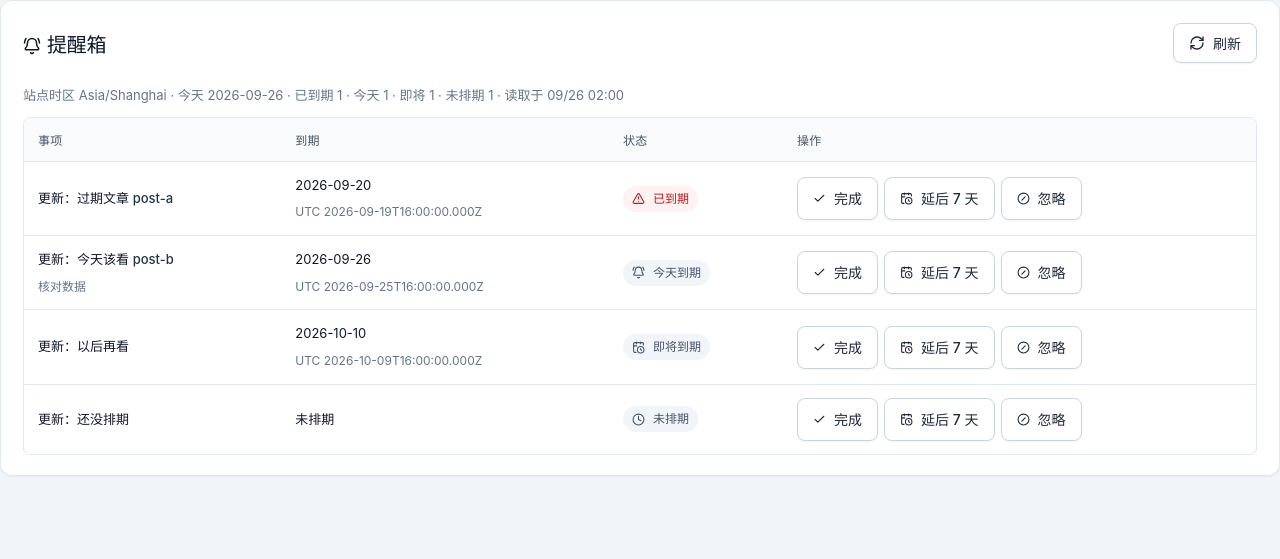
Test: ReminderInboxPanel（O04 提醒箱界面） › 幂等回放如实提示，不谎称又执行了一次
The image size is (1280, 559).
Click the button "完成" in the row of "更新：过期文章". click: [838, 199]
box: [797,177,878,220]
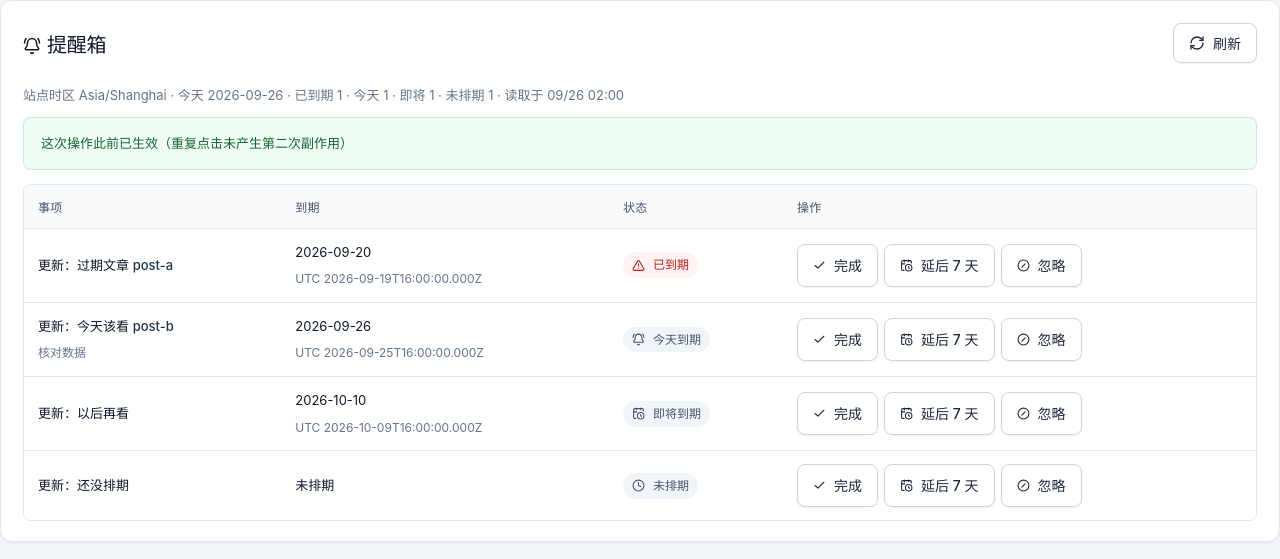
Check: the text "这次操作此前已生效（重复点击未产生第二次副作用）" is shown, box [23,117,1257,170]
